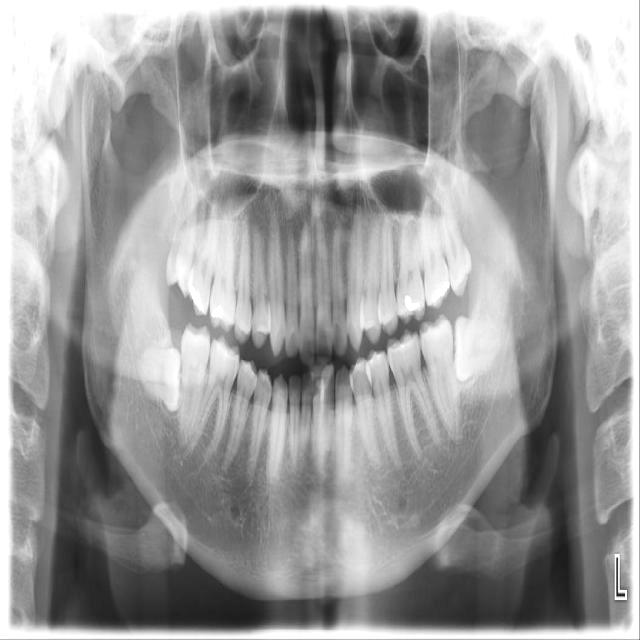Filling: (189, 288, 205, 314), (434, 281, 450, 300), (405, 296, 420, 312), (211, 304, 223, 319)
impacted tooth: (453, 316, 503, 381), (133, 347, 180, 411)
